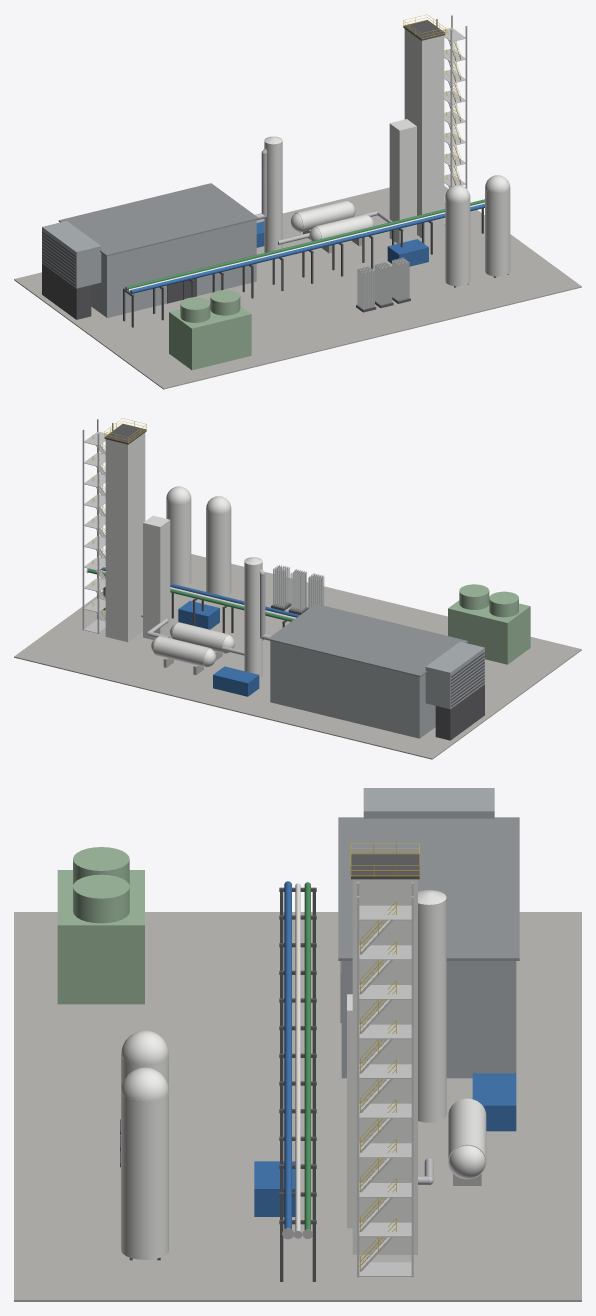
The model's file is SM_OxygenPlant.fbx.
The picture shows the model from 3 angles, top to bottom: view 1: azimuth 30°, elevation 25°; view 2: azimuth 150°, elevation 25°; view 3: azimuth 270°, elevation 25°; orthographic projection. The views are drawn at different scales.
Parts seen in each view (by area): view 1: OX_Site, OX_MACDoor; view 2: OX_Site; view 3: OX_Site.
Part boxes in pixels (x1,y1,x2,y2): OX_Site: [14, 14, 581, 389]; OX_MACDoor: [167, 278, 196, 303]; OX_Site: [14, 418, 581, 759]; OX_Site: [14, 788, 581, 1301].
Bounding box in the file's own units: 8400 × 3962 × 5200.
